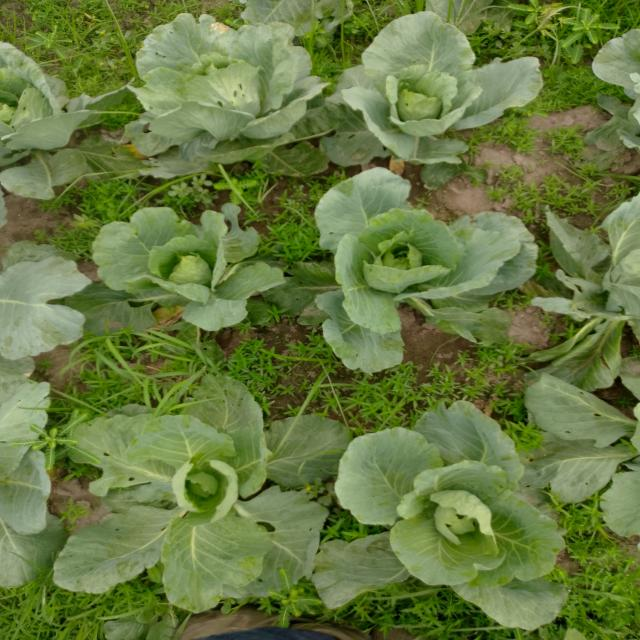Cabbage: (308, 415, 595, 640), (290, 158, 556, 397), (66, 391, 340, 596), (75, 195, 287, 352), (125, 22, 325, 179), (340, 13, 527, 160), (479, 368, 640, 518), (533, 170, 640, 360), (2, 354, 69, 606), (4, 33, 96, 207), (0, 223, 79, 351), (600, 21, 640, 122)
